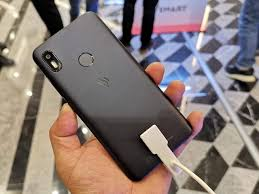vsmart: (33, 8, 199, 182)
